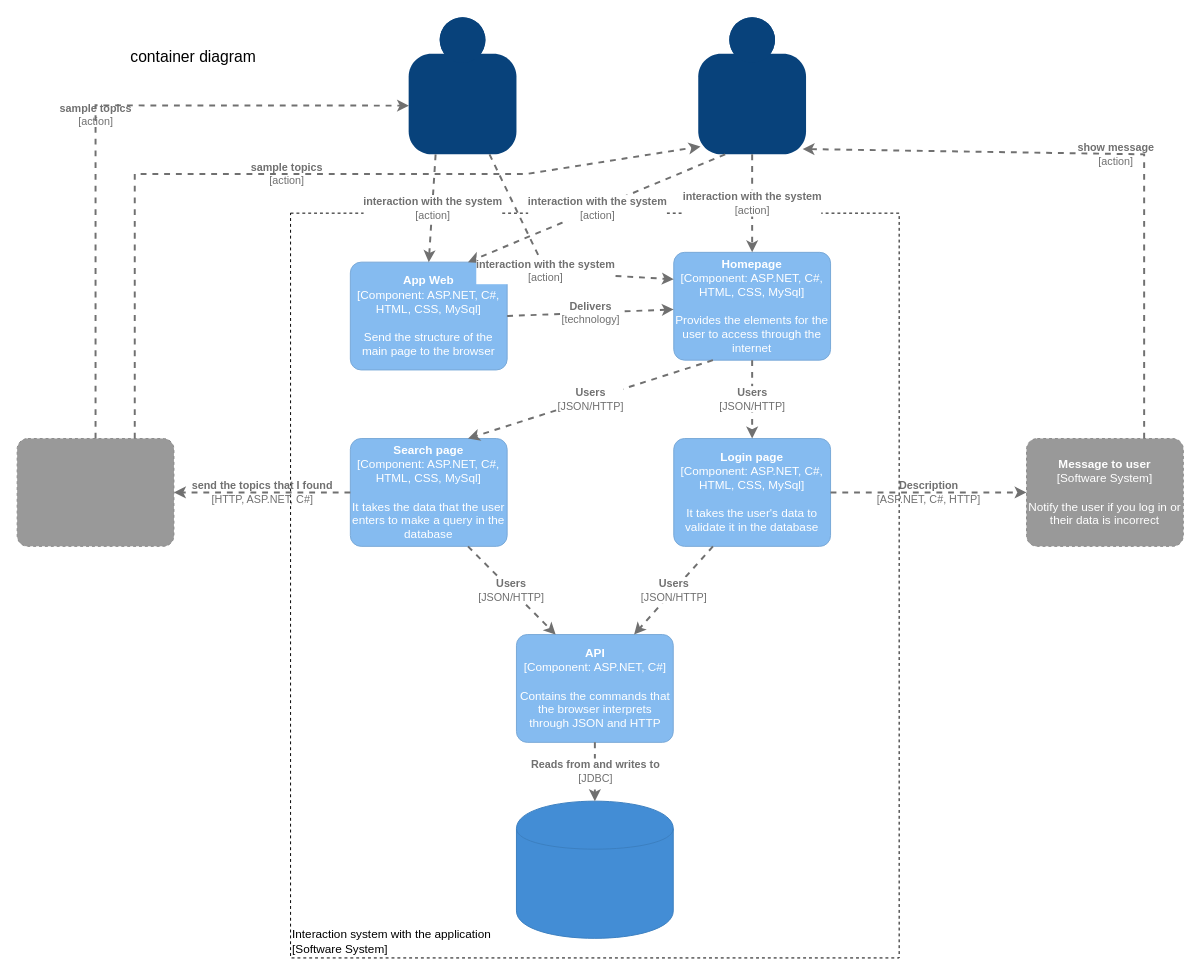
This 1201x975 diagram has some shape labels left out. The centre of each missing label's shape, as x and y in pixels:
"Administrator [Person] System manager" goes at point (462, 85).
"Database [Container: MySQL] Stores topics, attachments and user data" goes at point (594, 869).
"Show topic [Software System] Show the topics found" goes at point (95, 492).
"User [Person] Employee with an account" goes at point (752, 85).
